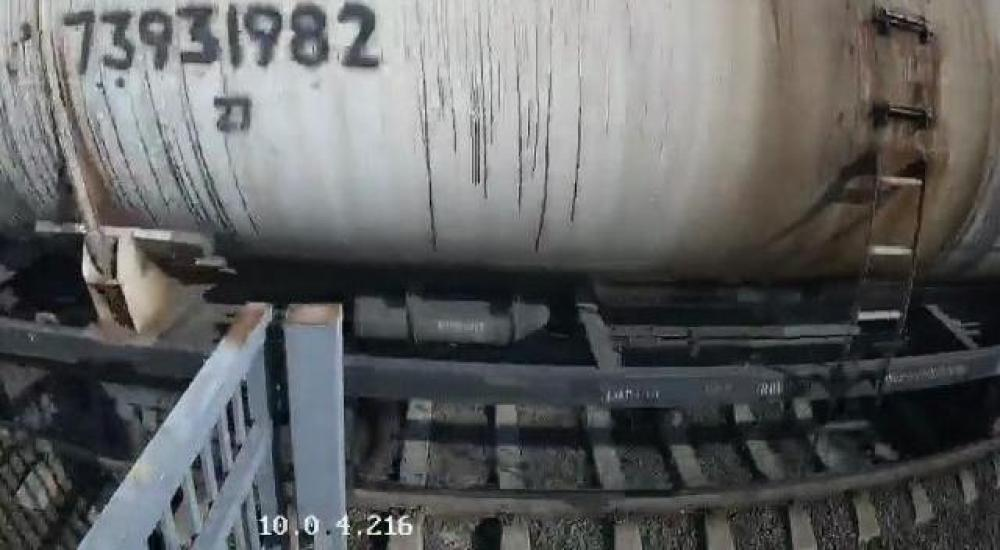Wagon-number: (55, 0, 384, 73)
